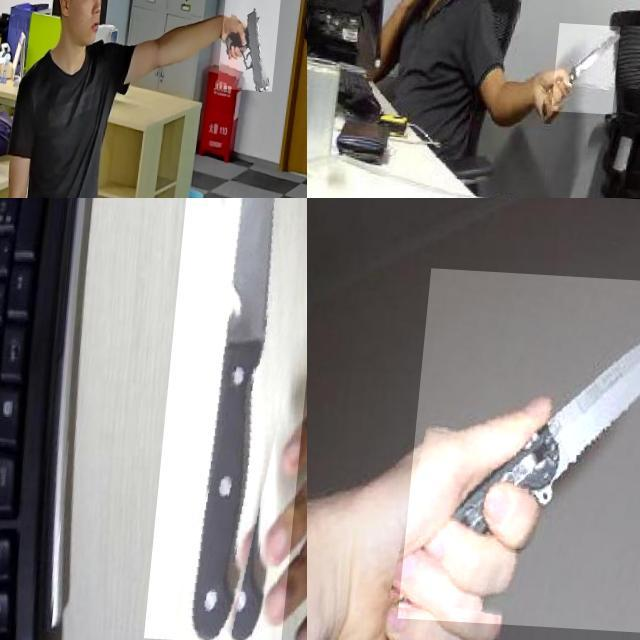-: (406, 265, 640, 627), (155, 198, 307, 640), (562, 20, 630, 110)
gun-knife-thesis - v11 Yolov5 augmented: (222, 0, 284, 86)
